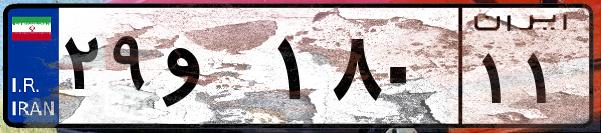0: (385, 28, 445, 110)
1: (270, 28, 330, 110), (475, 38, 525, 113), (525, 38, 570, 115)
2: (57, 26, 110, 100)
8: (330, 28, 385, 110)
9: (110, 28, 158, 98)
و: (158, 20, 270, 120)
